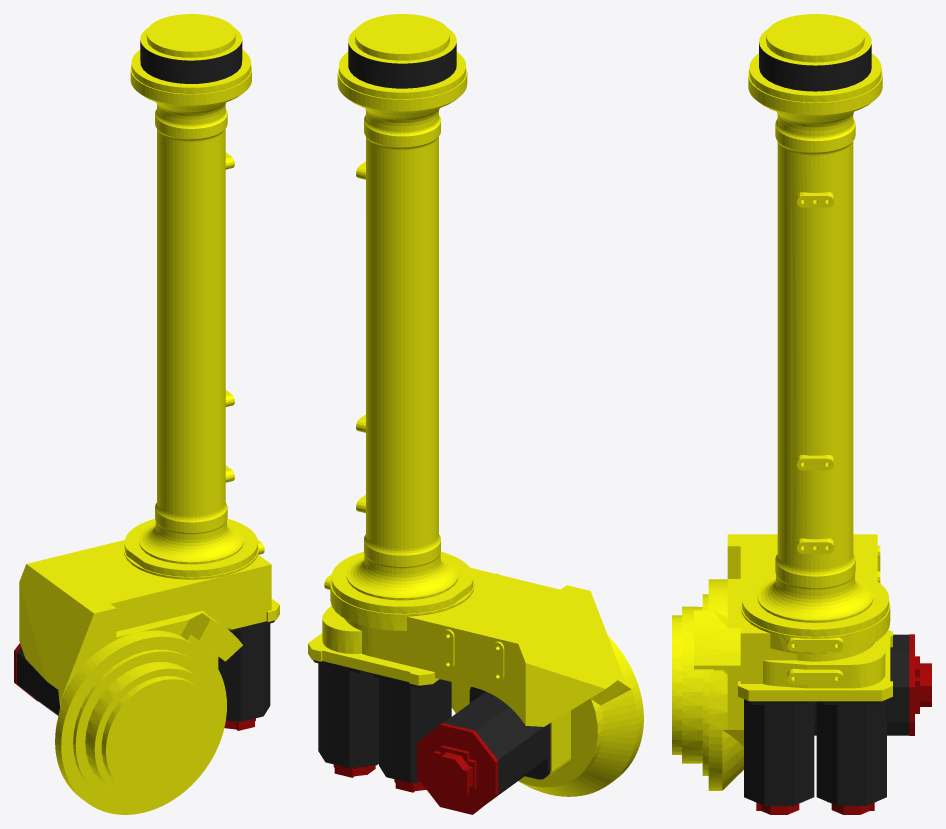
3 renders of one model, left to right at view 1: azimuth 30°, elevation 25°; view 2: azimuth 150°, elevation 25°; view 3: azimuth 270°, elevation 25°, orthographic. The views are drawn at different scales.
Visible parts, largest first — view 1: node; view 2: node; view 3: node.
Boxes of the visible parts, <box> form: node: <box>14,14,279,814</box>; node: <box>308,14,643,814</box>; node: <box>672,14,931,814</box>.
Size of the model in its own units: 564 by 1624 by 479.
